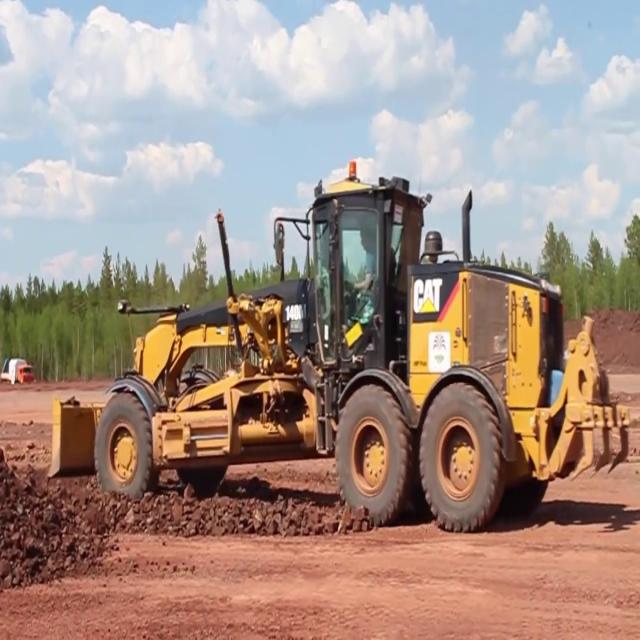buldozerpayloadergrader: (55, 177, 627, 532)
